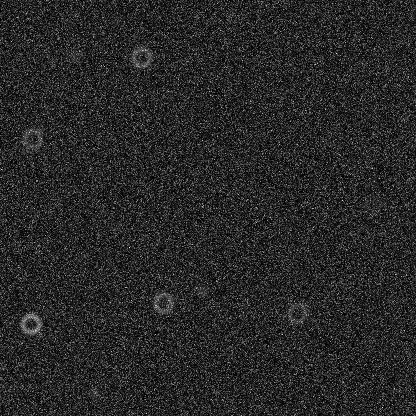Ring: (129, 45, 153, 69), (20, 126, 44, 150), (285, 300, 309, 324), (18, 311, 42, 335), (151, 290, 175, 314), (360, 192, 384, 216)
Spot: (86, 384, 102, 400), (194, 282, 210, 298), (66, 48, 82, 64)
